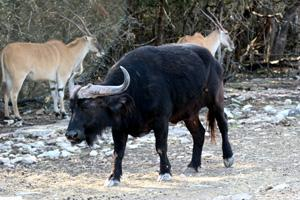Buffalo: (43, 68, 268, 174)
